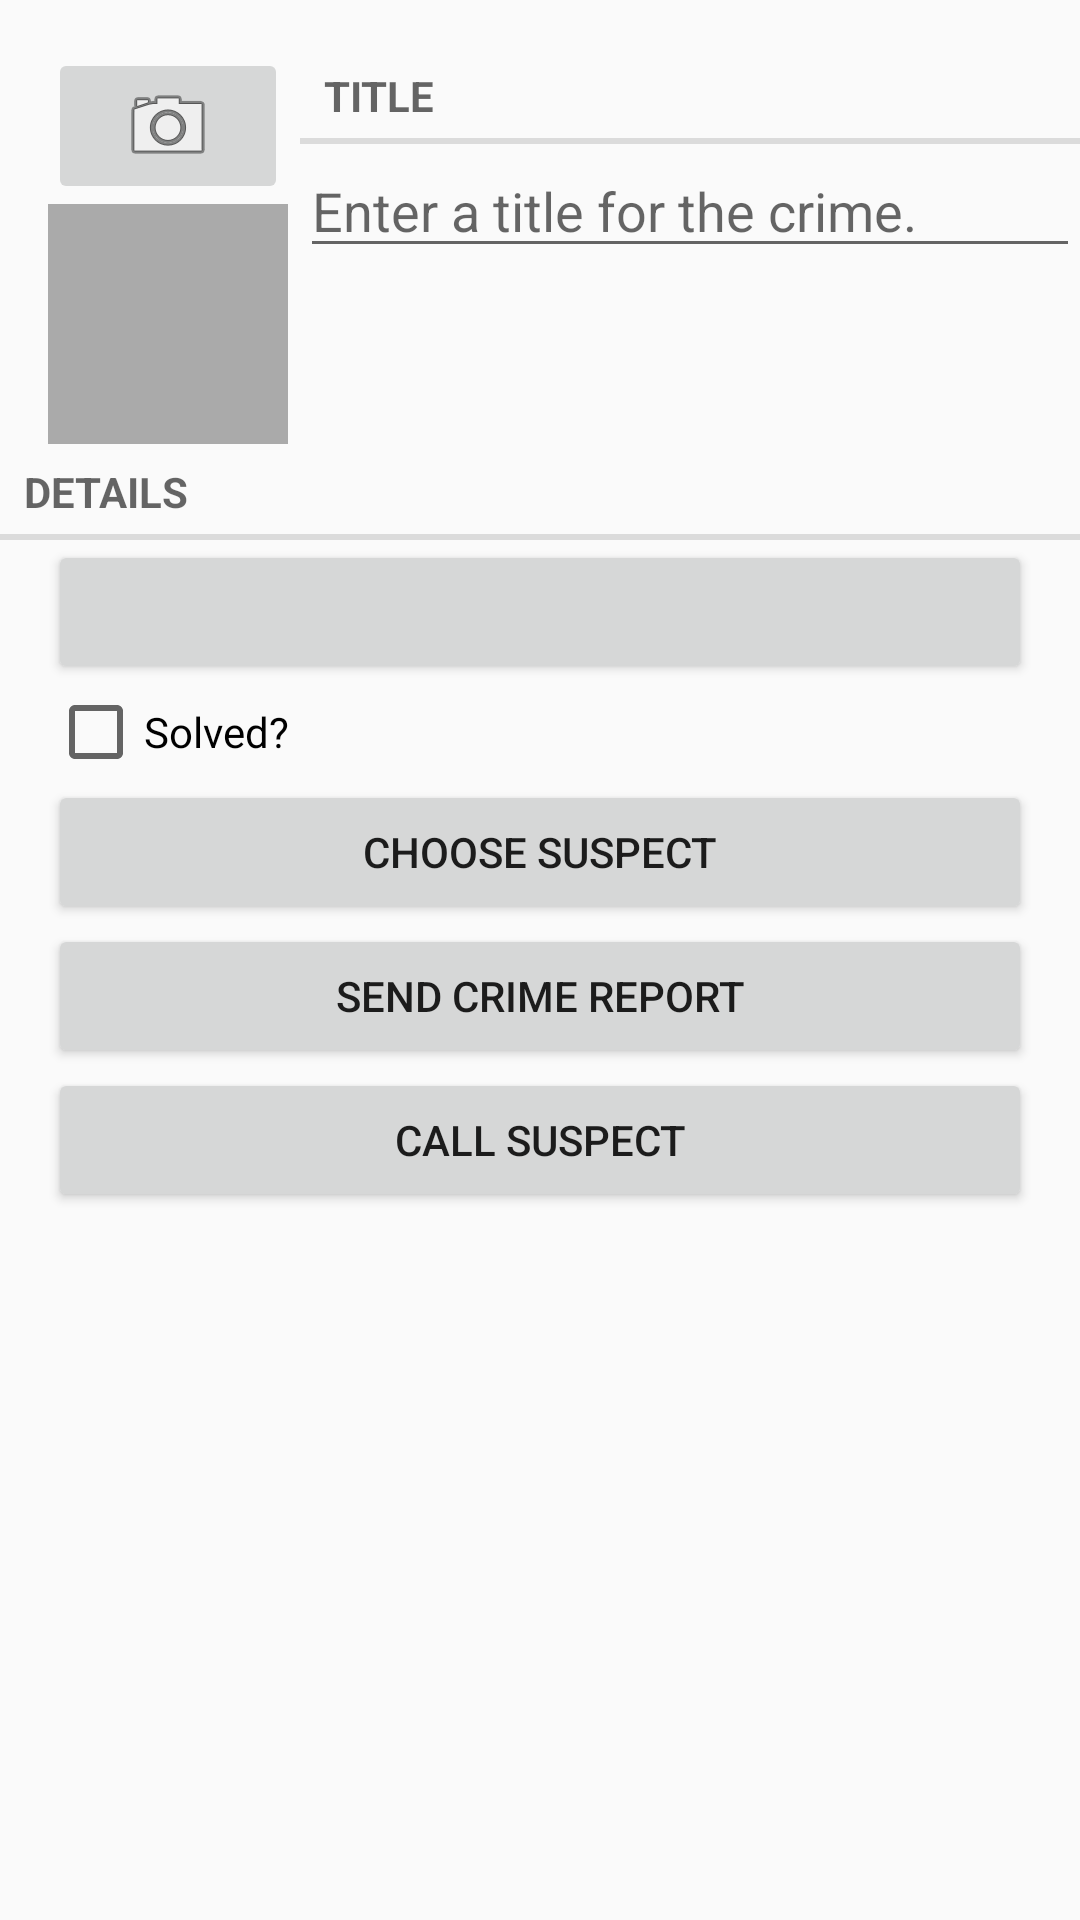

Icons on this 1080 × 1920 Android screen, each with the point to tap as [x,y]:
camera: [168,126]
